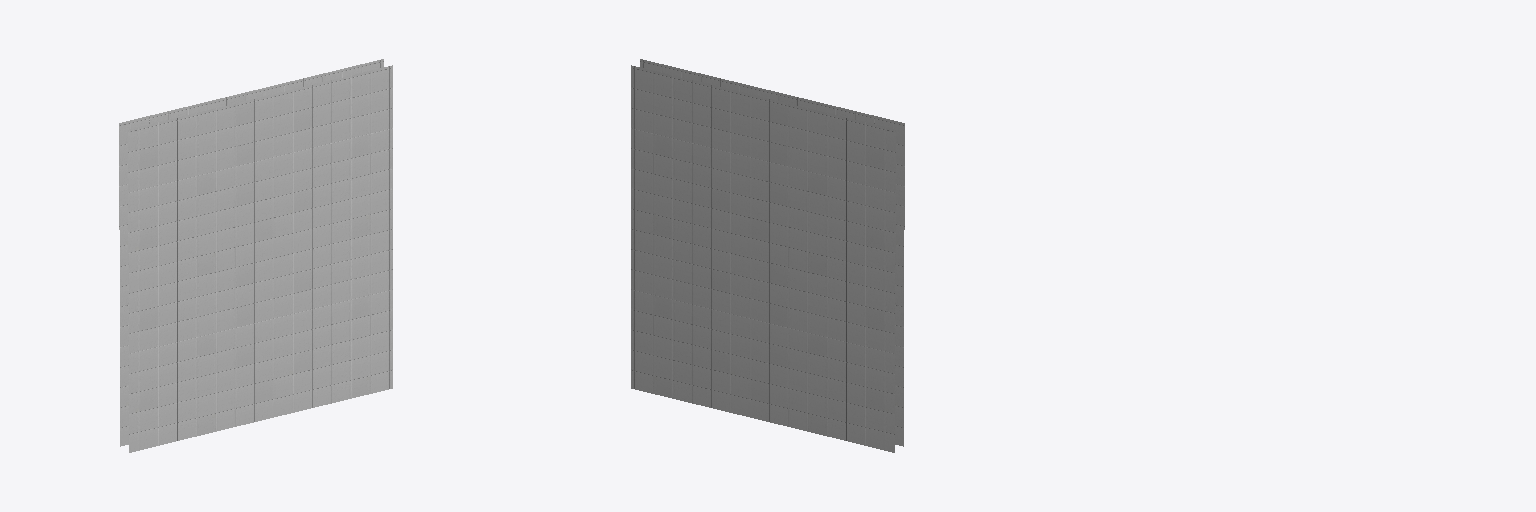
The picture shows the model from 3 angles: view 1: azimuth 30°, elevation 25°; view 2: azimuth 150°, elevation 25°; view 3: azimuth 270°, elevation 25°; orthographic projection.
Visible parts, largest first — view 1: floor_5; view 2: floor_5; view 3: none.
Part boxes in pixels (x1,y1,x2,y2): floor_5: (119, 59, 392, 452); floor_5: (631, 59, 904, 452).
Size of the model in its own units: 1.72 by 2.01 by 0.1.
1 materials, 1 textured.